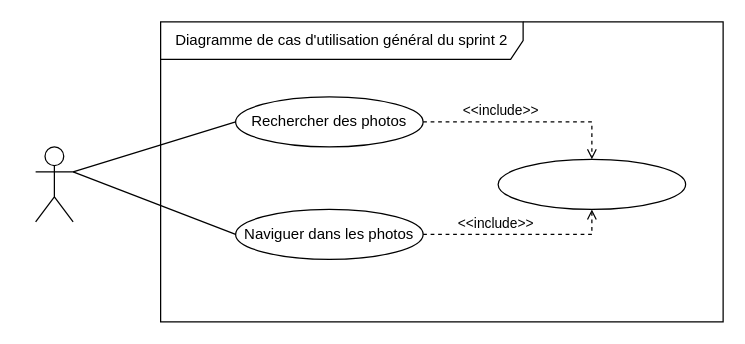
This 745x344 diagram has some shape labels left out. The shapes that lost their labels are listed below. From the top down, each one's box as (x1, y1, x2, y2) in pixels, then its label:
(34, 146, 73, 222): Utilisateur
(497, 158, 686, 209): S'authentifier
